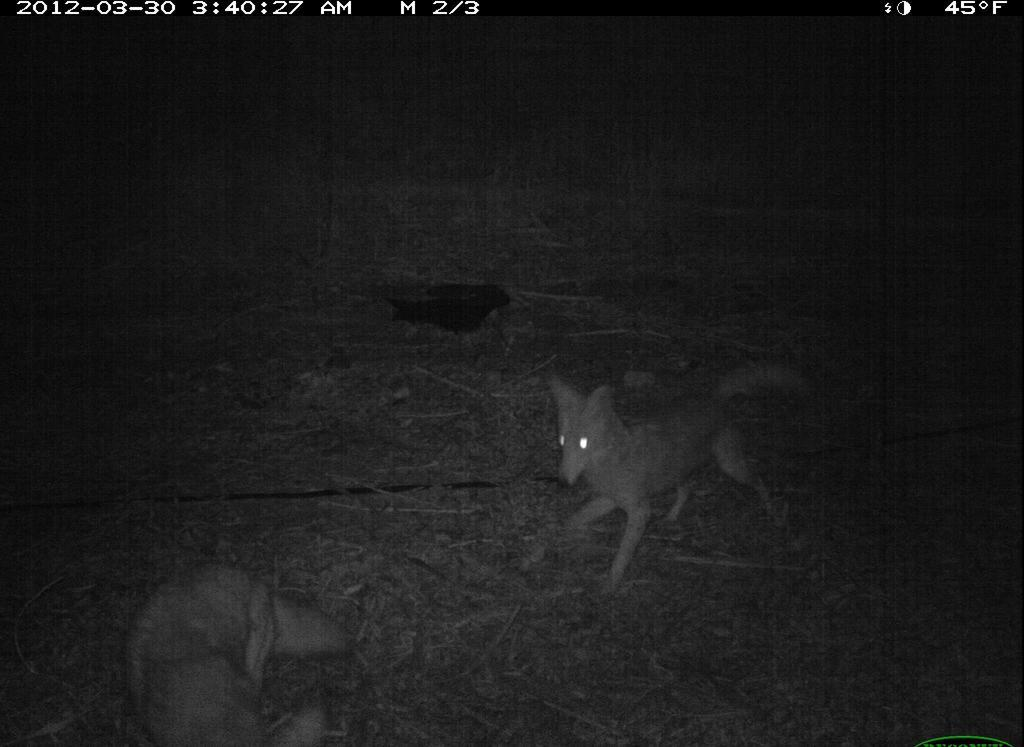coyote: (543, 356, 817, 594), (113, 536, 361, 747)
